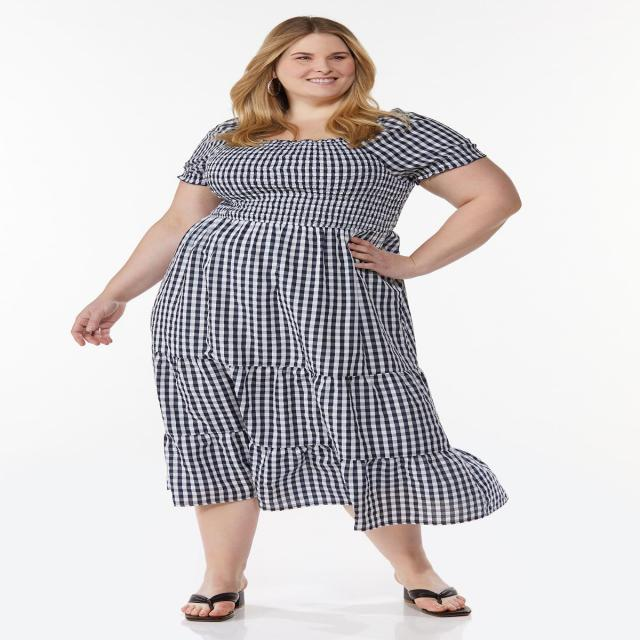clothes: (130, 98, 526, 548)
